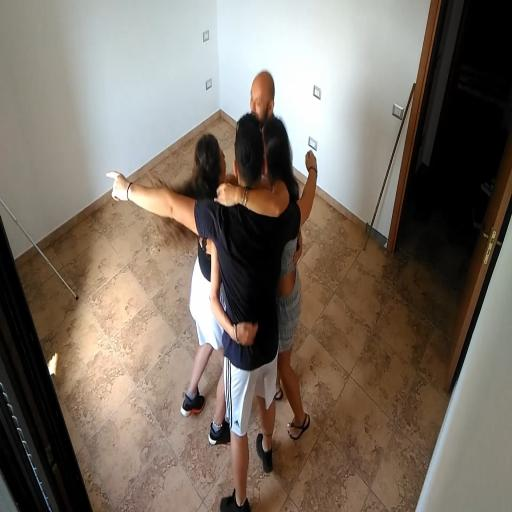nao-violencia: (88, 65, 322, 510)
